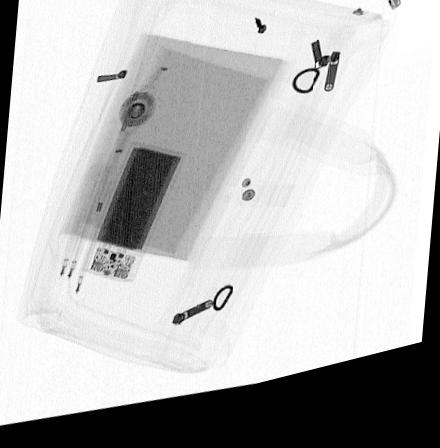Powerbank: (78, 148, 186, 288)
